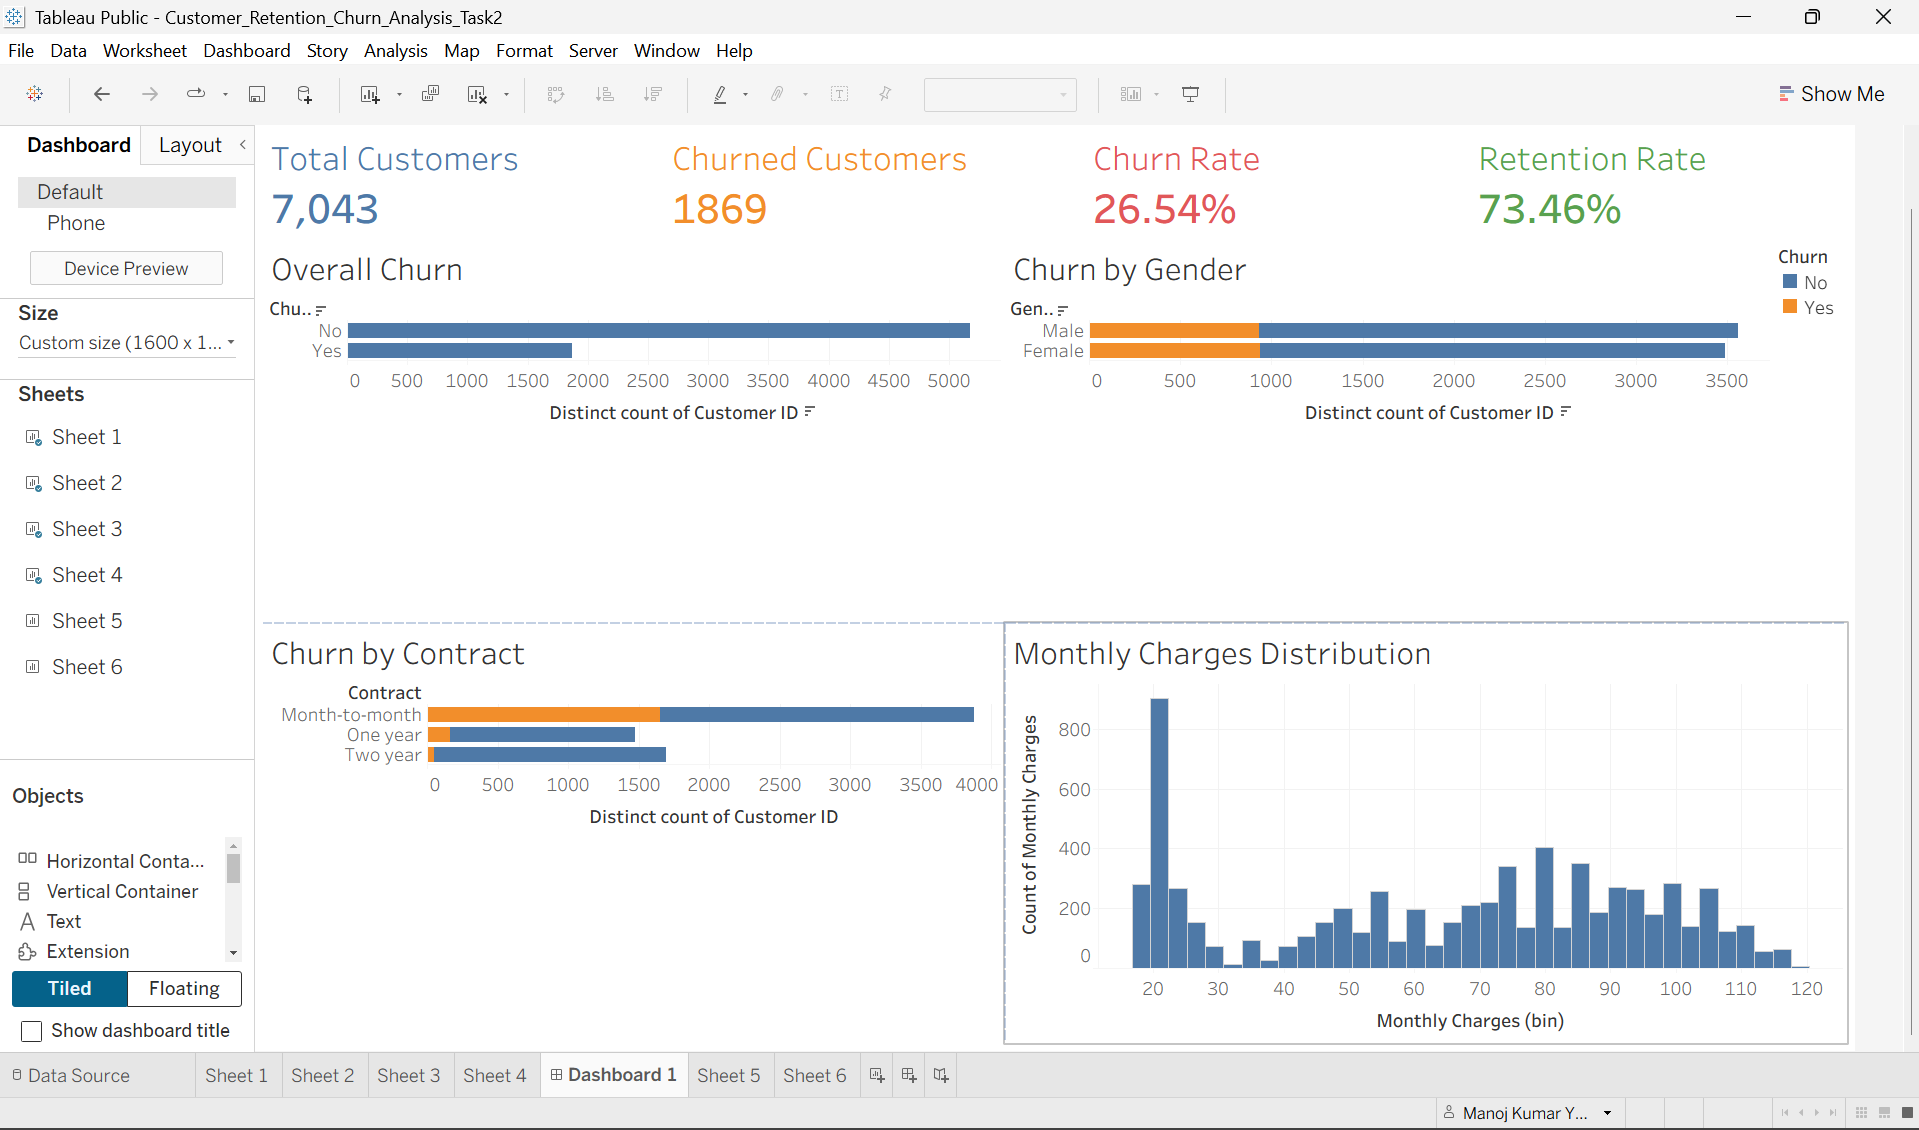

This screenshot's page, from the dashboard's own definition file:
{"tool":"tableau","page":{"name":"Dashboard 1","canvas":[1600,1000],"ordinal":0},"visuals":[{"type":"title","box":[8,8,1584,72]},{"type":"text","box":[8,80,401,108]},{"type":"text","box":[409,80,421,108]},{"type":"text","box":[830,80,385,108]},{"type":"text","box":[1215,80,377,108]},{"type":"worksheet","title":"Sheet 1","mark":"Automatic","rows":["Churn"],"cols":["customerID"],"box":[8,188,742,383.9]},{"type":"worksheet","title":"Sheet 2","mark":"Automatic","rows":["gender"],"cols":["customerID"],"box":[750,188,769,383.9]},{"type":"legend","title":"Sheet 2","param":"[federated.1y9p54a1mgs56f188pcaz12l3y6w].[none:Churn:nk]","box":[1519,188,73,84]},{"type":"worksheet","title":"Sheet 3","mark":"Automatic","rows":["Contract"],"cols":["customerID"],"box":[8,571.9,741.6,420.1]},{"type":"worksheet","title":"Sheet 4","mark":"Automatic","rows":["MonthlyCharges"],"cols":["Monthly Charges (bin)"],"box":[749.6,571.9,842.4,420.1]}]}

Visuals, with their boxes on the page's 1600x1000 design canvas (x1, y1, x2, y2). These are canvas units, not pixel positions in the 1919x1130 screenshot, which may show the page scaled, cropped or inside an application window:
title: [left=8, top=8, right=1592, bottom=80]
text: [left=8, top=80, right=409, bottom=188]
text: [left=409, top=80, right=830, bottom=188]
text: [left=830, top=80, right=1215, bottom=188]
text: [left=1215, top=80, right=1592, bottom=188]
"Sheet 1" worksheet: [left=8, top=188, right=750, bottom=572]
"Sheet 2" worksheet: [left=750, top=188, right=1519, bottom=572]
"Sheet 2" legend: [left=1519, top=188, right=1592, bottom=272]
"Sheet 3" worksheet: [left=8, top=572, right=750, bottom=992]
"Sheet 4" worksheet: [left=750, top=572, right=1592, bottom=992]
